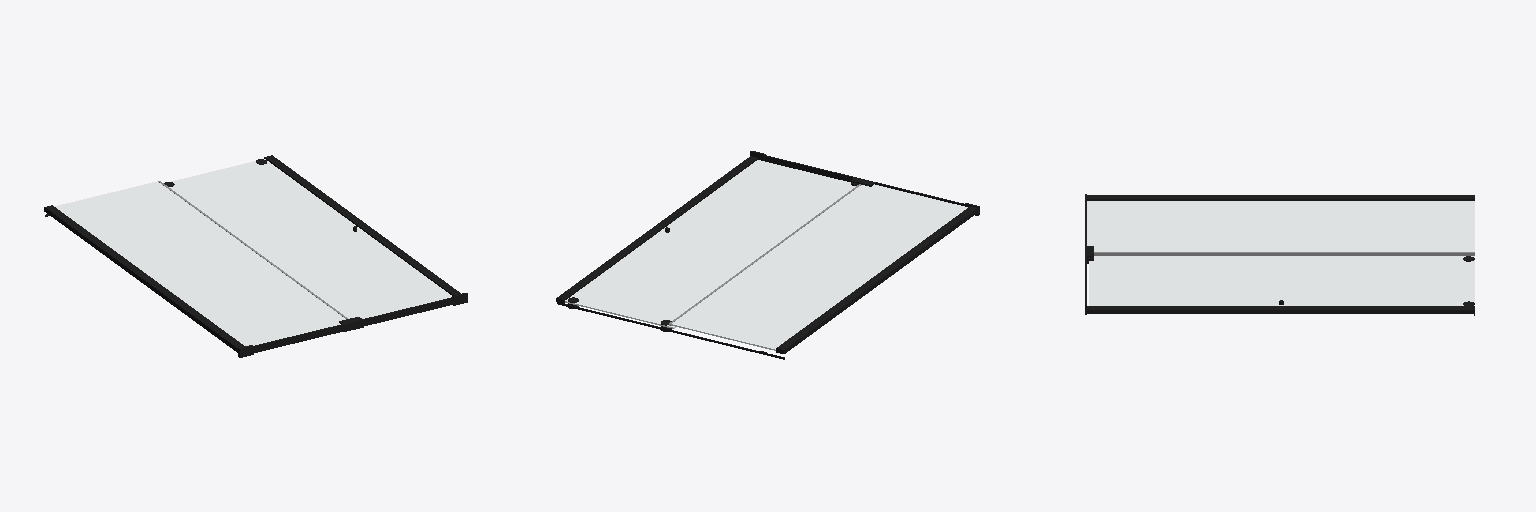
The model's file is Sanitary_Shower-screens_ODF-Paris_Shower-screen-1-fixed-1-sliding-panel-up.obj.
3 views of the same model, side by side, from view 1: azimuth 30°, elevation 25°; view 2: azimuth 150°, elevation 25°; view 3: azimuth 270°, elevation 25° (orthographic).
Visible parts, largest first — view 1: default; view 2: default; view 3: default.
Boxes of the visible parts, box(x1,y1,x2,y2) form: default: box(44, 155, 467, 357); default: box(556, 151, 979, 359); default: box(1085, 194, 1474, 315).
Bounding box in the file's own units: 1400 × 73.5 × 2079.